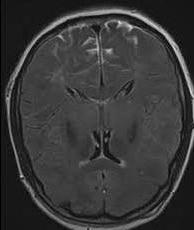Normal_Brain: (3, 1, 194, 230)
